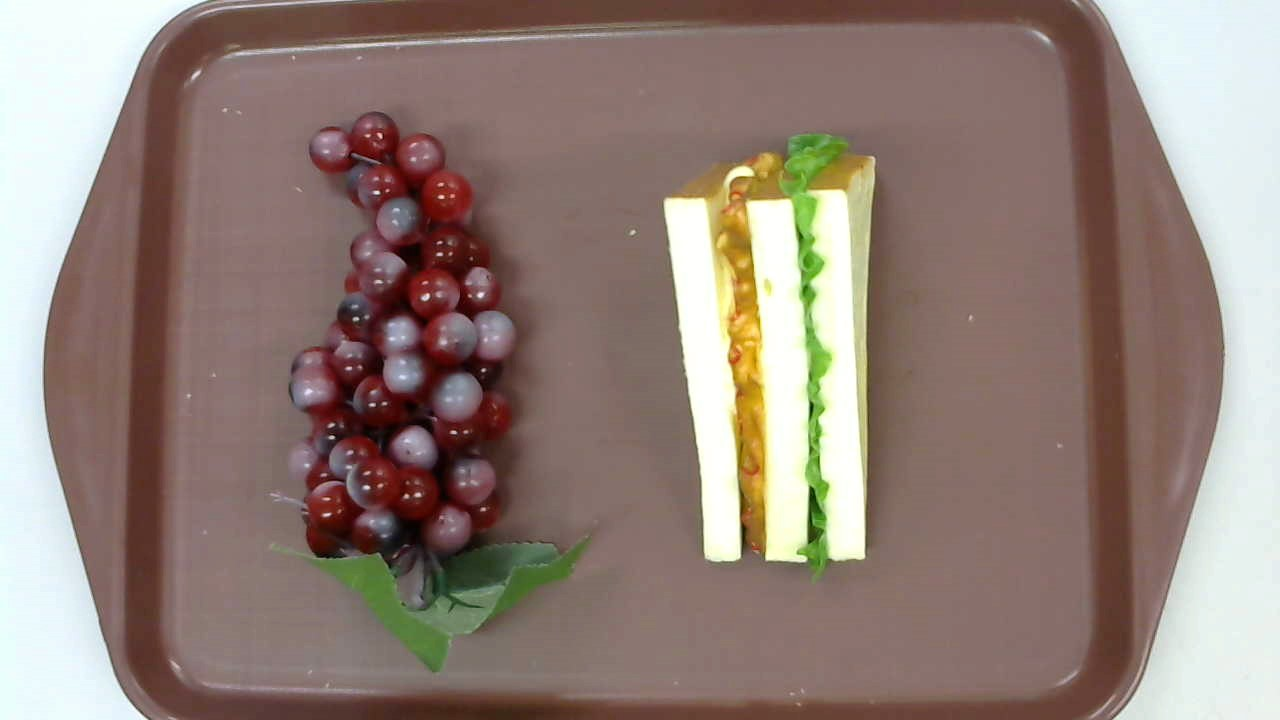grape: (268, 112, 595, 675)
sandwich: (662, 134, 877, 580)
